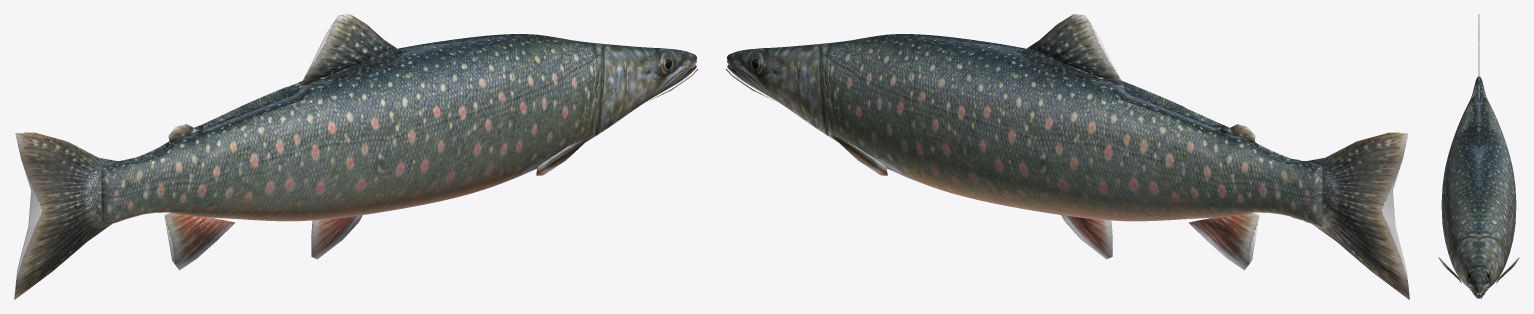
File: arctic_char.glb
3 views of the same model, side by side, from view 1: azimuth 30°, elevation 25°; view 2: azimuth 150°, elevation 25°; view 3: azimuth 270°, elevation 25° (orthographic). The views are drawn at different scales.
Parts seen in each view (by area): view 1: arctic_char_realistic.001; view 2: arctic_char_realistic.001; view 3: arctic_char_realistic.001.
Part boxes in pixels (x1,y1,x2,y2): arctic_char_realistic.001: (14, 14, 697, 299); arctic_char_realistic.001: (726, 14, 1409, 299); arctic_char_realistic.001: (1438, 14, 1519, 298).
Size of the model in its own units: 1 by 0.334 by 0.1583.
3 materials, 3 textured.
